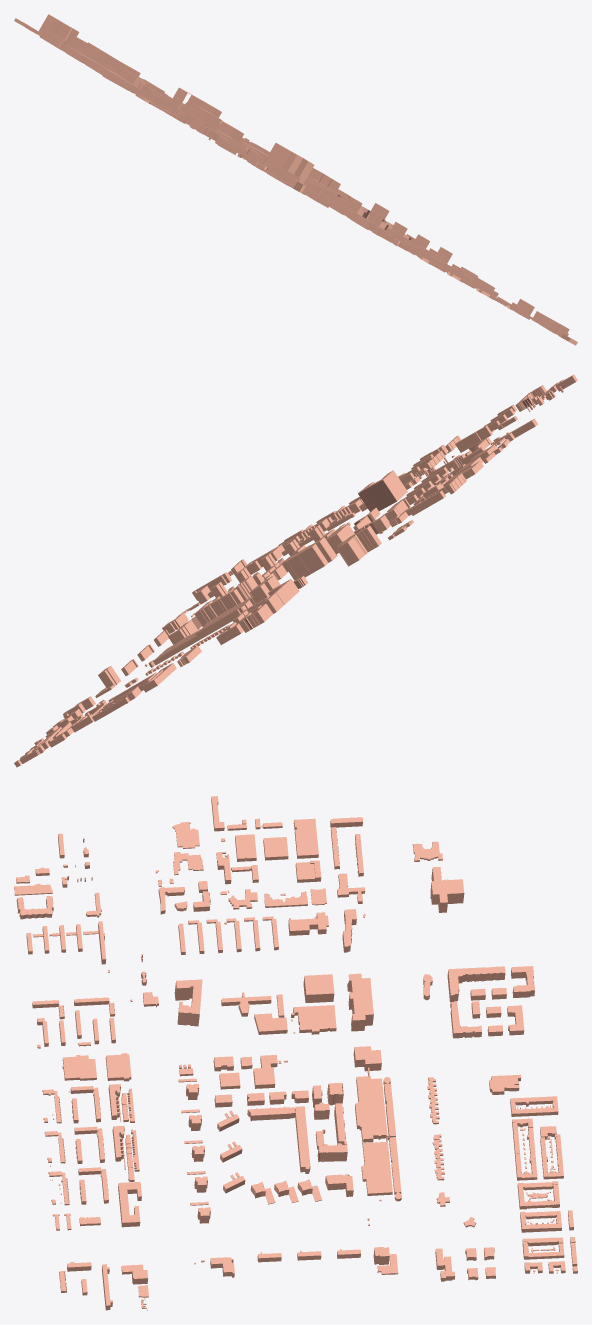
3 views of the same model, one above another, from view 1: azimuth 30°, elevation 25°; view 2: azimuth 150°, elevation 25°; view 3: azimuth 270°, elevation 25° (orthographic). The views are drawn at different scales.
Size of the model in its own units: 1076 by 816 by 1296.
